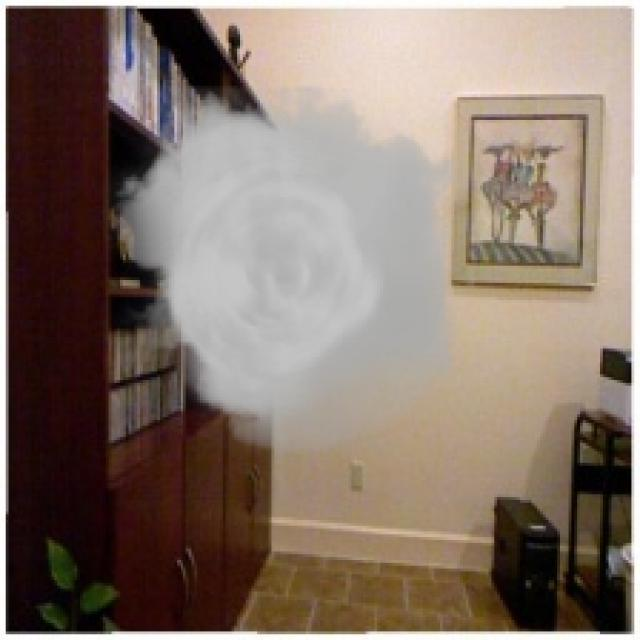Smoke: (102, 86, 474, 454)
